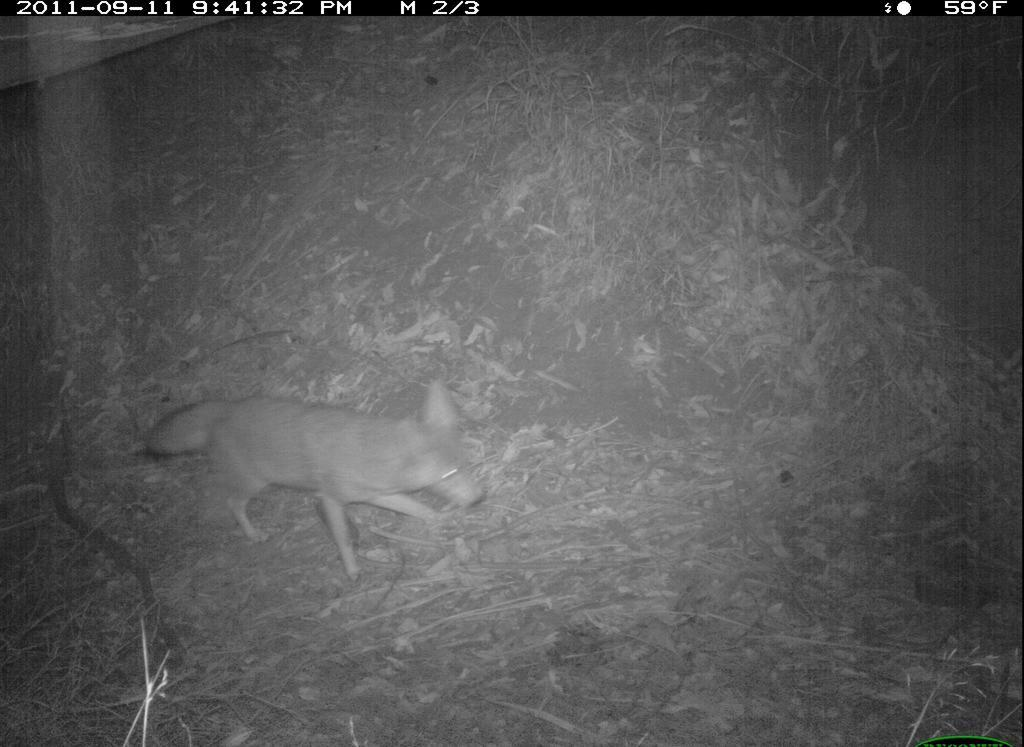coyote: (137, 368, 502, 570)
